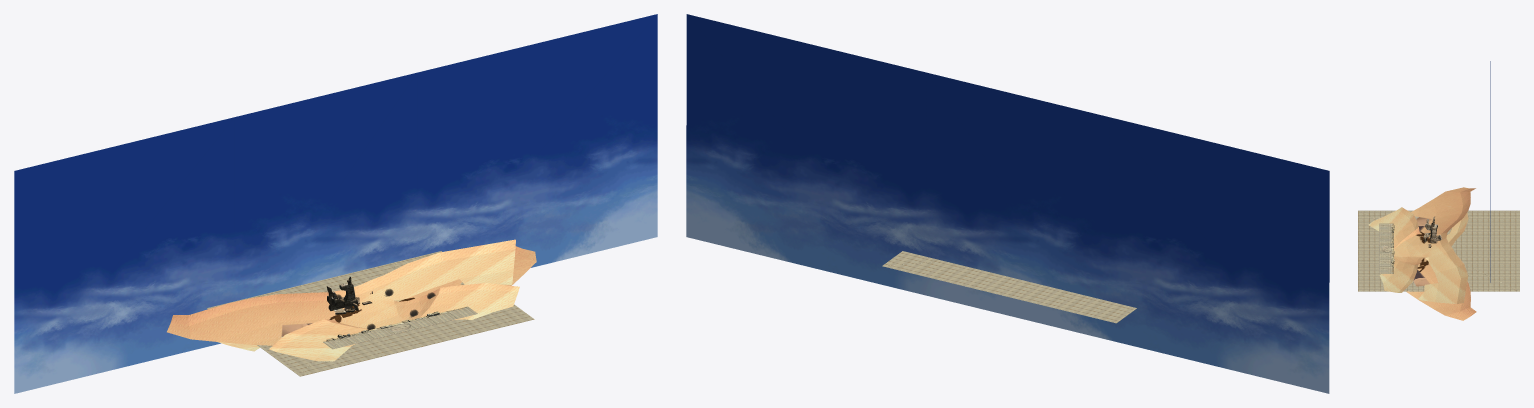
The model's file is UMK3iOSJadeDesert.glb.
3 views of the same model, side by side, from view 1: azimuth 30°, elevation 25°; view 2: azimuth 150°, elevation 25°; view 3: azimuth 270°, elevation 25° (orthographic). The views are drawn at different scales.
Parts seen in each view (by area): view 1: sky, SandDune2, 6_Object008, SandDune2.001, Floor, Ruins; view 2: sky, 6_Object008; view 3: 6_Object008, SandDune2, SandDune2.001, Floor, Ruins, sky.
Part boxes in pixels (x1,y1,x2,y2): sky: (14,14,657,393); SandDune2: (167,239,519,345); 6_Object008: (207,251,534,376); SandDune2.001: (218,246,536,361); Floor: (323,306,477,349); Ruins: (327,276,371,314); sky: (686,14,1329,393); 6_Object008: (882,251,1136,323); 6_Object008: (1358,210,1519,291); SandDune2: (1379,187,1475,303); SandDune2.001: (1368,207,1476,320); Floor: (1379,223,1393,273); Ruins: (1423,216,1441,247); sky: (1490,61,1490,282).
Size of what is drawn, in the model's own units: 104 by 34.46 by 32.03.
Materials: 20 (20 with a texture image).
